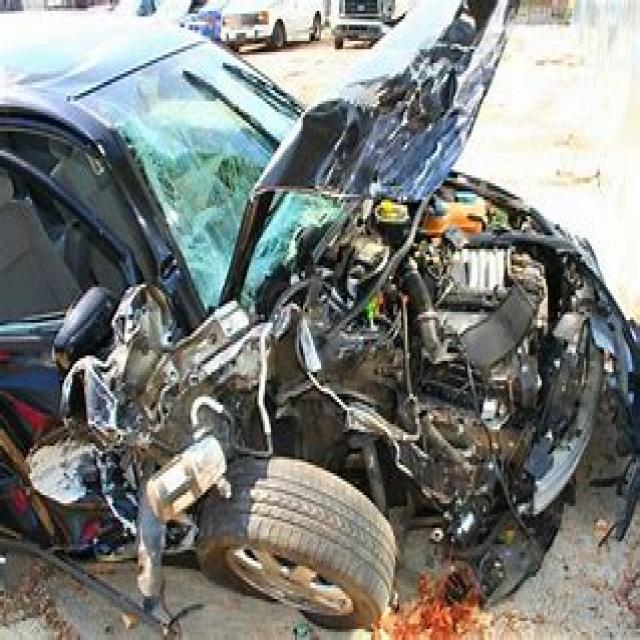Accident: (90, 63, 640, 574)
